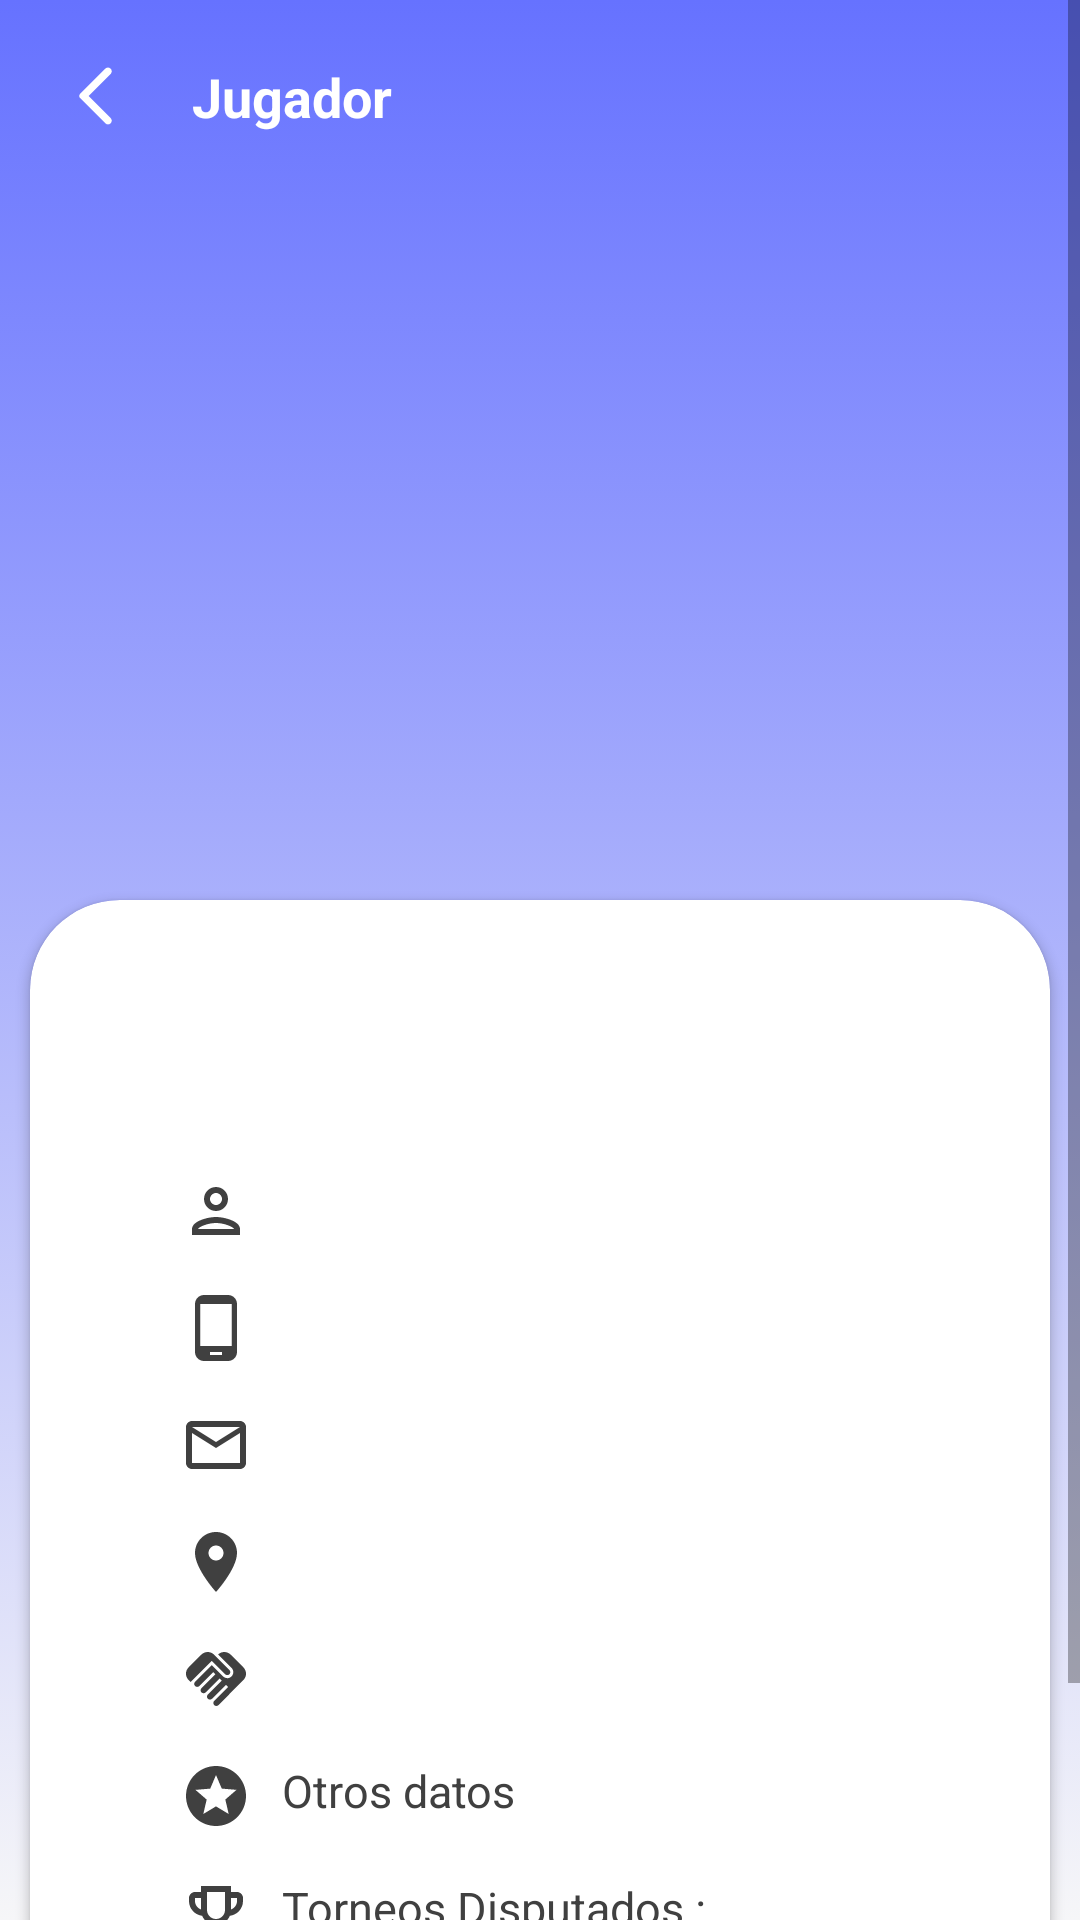

Screen size 1080px x 1920px. Icon name, then its center in pixels as point (x, y):
arrow back: point (95, 96)
